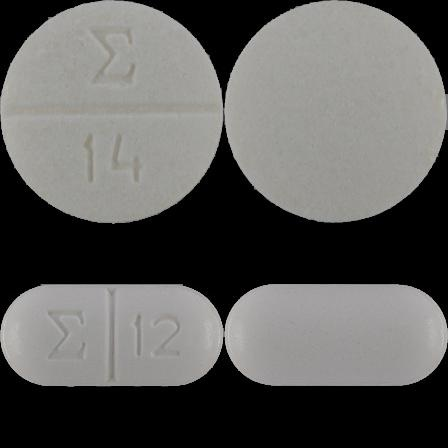64980-185: (0, 0, 224, 224)
